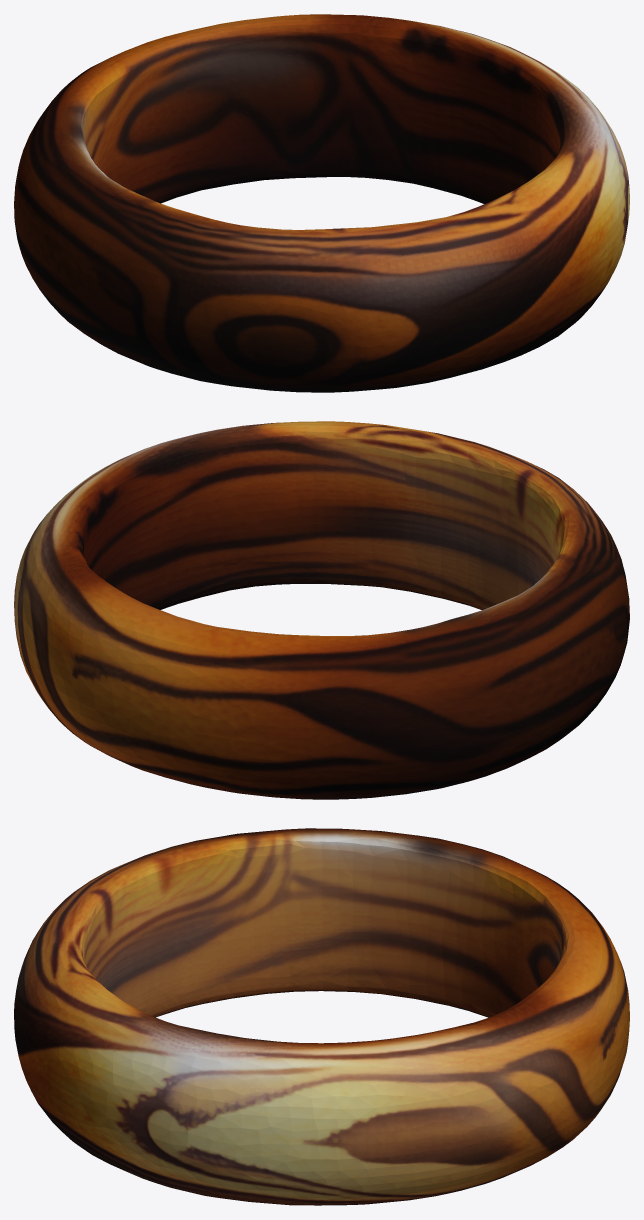
The model's file is wooden-bracelet-vintage.jpeg.glb.
3 renders of one model, top to bottom at view 1: azimuth 30°, elevation 25°; view 2: azimuth 150°, elevation 25°; view 3: azimuth 270°, elevation 25°, orthographic.
Parts seen in each view (by area): view 1: world; view 2: world; view 3: world.
Boxes of the visible parts, x1=… form: world: x1=14, y1=14, x2=629, y2=392; world: x1=14, y1=421, x2=629, y2=799; world: x1=14, y1=828, x2=629, y2=1205.
Bounding box in the file's own units: 0.9992 × 0.284 × 0.9998.
1 material, 1 textured.
